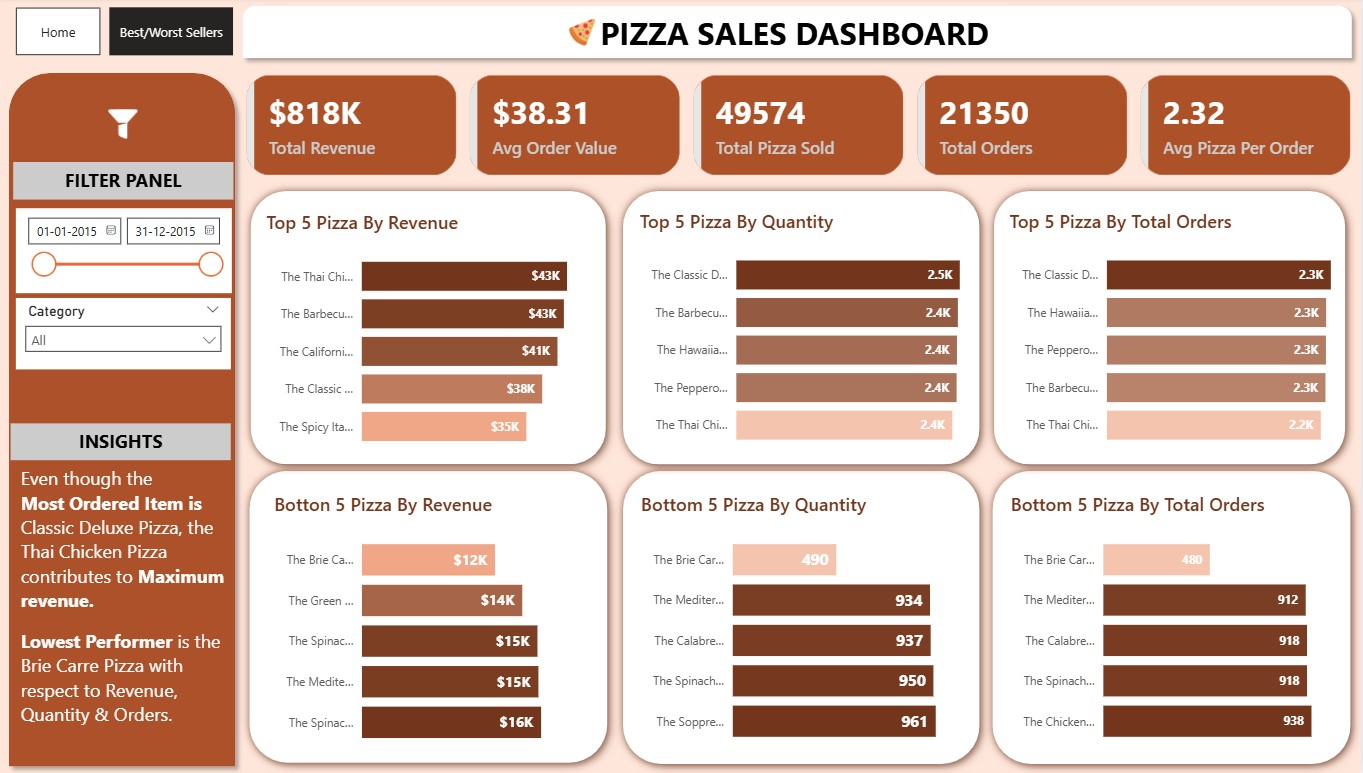

The dashboard page shown, as its layout file describes it:
{"tool":"powerbi","page":{"name":"Best/Worst Sellers","canvas":[1400,800],"ordinal":1},"visuals":[{"type":"shape","box":[0,68.6,251.1,731.4],"z":0},{"type":"shape","box":[240.4,0,1159.2,71.8],"z":1000},{"type":"cardVisual","fields":{"Data":["pizza_sales.Total Revenue","pizza_sales.Avg Order Value","pizza_sales.Total Pizza Sold","pizza_sales.Total Orders","pizza_sales.Avg Pizza Per Order"]},"box":[244.6,71.8,1155.1,118.8],"z":2000},{"type":"shape","box":[245.8,476.6,389.7,321.8],"z":3000},{"type":"shape","box":[247.3,189.3,386.9,302.6],"z":4000},{"type":"shape","box":[1010.2,476.6,389.7,323.2],"z":5000},{"type":"shape","box":[630,476.6,388.3,323.2],"z":6000},{"type":"textbox","box":[16.3,476.6,221.3,285.1],"z":7000},{"type":"textbox","box":[10.9,438.6,226.8,38],"z":8000},{"type":"slicer","fields":{"Values":["pizza_sales.order_date"]},"box":[16.3,217.2,221.3,86.9],"z":9000},{"type":"slicer","fields":{"Values":["pizza_sales.pizza_category"]},"box":[16.3,309.6,221.3,73.3],"z":10000},{"type":"textbox","box":[13.8,169.9,226.6,38.7],"z":11000},{"type":"barChart","title":"Top 5 Pizza By Revenue","fields":{"Category":["pizza_sales.pizza_name"],"Y":["pizza_sales.Total Revenue"]},"box":[268.8,218.6,361.2,259.3],"z":12000},{"type":"barChart","title":"Botton 5 Pizza By Revenue","fields":{"Category":["pizza_sales.pizza_name"],"Y":["pizza_sales.Total Revenue"]},"box":[277,507.8,328.6,277],"z":13000},{"type":"shape","box":[630,188.7,388.3,302.8],"z":14000},{"type":"shape","box":[1011.6,188.7,382.9,302.8],"z":15000},{"type":"clusteredBarChart","title":"Top 5 Pizza By Quantity","fields":{"Category":["pizza_sales.pizza_name"],"Y":["pizza_sales.Total Pizza Sold"]},"box":[653.1,217.2,363.9,259.3],"z":16000},{"type":"barChart","title":"Bottom 5 Pizza By Quantity","fields":{"Category":["pizza_sales.pizza_name"],"Y":["pizza_sales.Total Pizza Sold"]},"box":[654.5,507.8,344.9,275.6],"z":17000},{"type":"barChart","title":"Top 5 Pizza By Total Orders","fields":{"Category":["pizza_sales.pizza_name"],"Y":["pizza_sales.Total Orders"]},"box":[1033.3,217.2,366.6,259.3],"z":18000},{"type":"barChart","title":"Bottom 5 Pizza By Total Orders","fields":{"Category":["pizza_sales.pizza_name"],"Y":["pizza_sales.Total Orders"]},"box":[1034.6,507.8,346.2,275.6],"z":19000},{"type":"image","box":[92.6,116.1,67.7,30.4],"z":20000},{"type":"textbox","box":[612.4,9.5,419.6,59.7],"z":21000},{"type":"pageNavigator","box":[113.3,11.1,127.1,49.7],"z":22000},{"type":"pageNavigator","box":[16.6,11.1,87,49.7],"z":23000},{"type":"image","box":[582.5,21.7,32.6,28.5],"z":24000}]}

Visuals, with their boxes in screenshot pixels (x1, y1, x2, y2), scaled from the page's 1400x800 canvas onto the 1363x773 screenshot:
shape: [left=0, top=66, right=244, bottom=772]
shape: [left=234, top=0, right=1362, bottom=69]
cardVisual - pizza_sales.Total Revenue x pizza_sales.Avg Order Value: [left=238, top=69, right=1362, bottom=184]
shape: [left=239, top=461, right=619, bottom=771]
shape: [left=241, top=183, right=617, bottom=475]
shape: [left=984, top=461, right=1362, bottom=772]
shape: [left=613, top=461, right=991, bottom=772]
textbox: [left=16, top=461, right=231, bottom=736]
textbox: [left=11, top=424, right=231, bottom=461]
slicer - pizza_sales.order_date: [left=16, top=210, right=231, bottom=294]
slicer - pizza_sales.pizza_category: [left=16, top=299, right=231, bottom=370]
textbox: [left=13, top=164, right=234, bottom=202]
"Top 5 Pizza By Revenue" barChart: [left=262, top=211, right=613, bottom=462]
"Botton 5 Pizza By Revenue" barChart: [left=270, top=491, right=590, bottom=758]
shape: [left=613, top=182, right=991, bottom=475]
shape: [left=985, top=182, right=1358, bottom=475]
"Top 5 Pizza By Quantity" clusteredBarChart: [left=636, top=210, right=990, bottom=460]
"Bottom 5 Pizza By Quantity" barChart: [left=637, top=491, right=973, bottom=757]
"Top 5 Pizza By Total Orders" barChart: [left=1006, top=210, right=1362, bottom=460]
"Bottom 5 Pizza By Total Orders" barChart: [left=1007, top=491, right=1344, bottom=757]
image: [left=90, top=112, right=156, bottom=142]
textbox: [left=596, top=9, right=1005, bottom=67]
pageNavigator: [left=110, top=11, right=234, bottom=59]
pageNavigator: [left=16, top=11, right=101, bottom=59]
image: [left=567, top=21, right=599, bottom=49]
